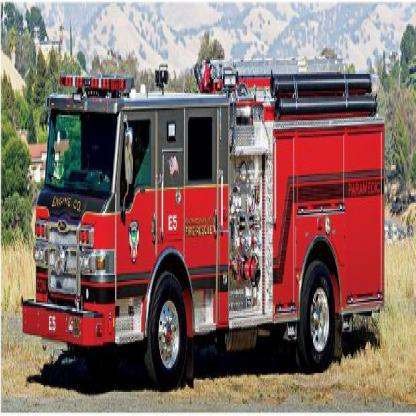fire-truck: (12, 16, 408, 381)
